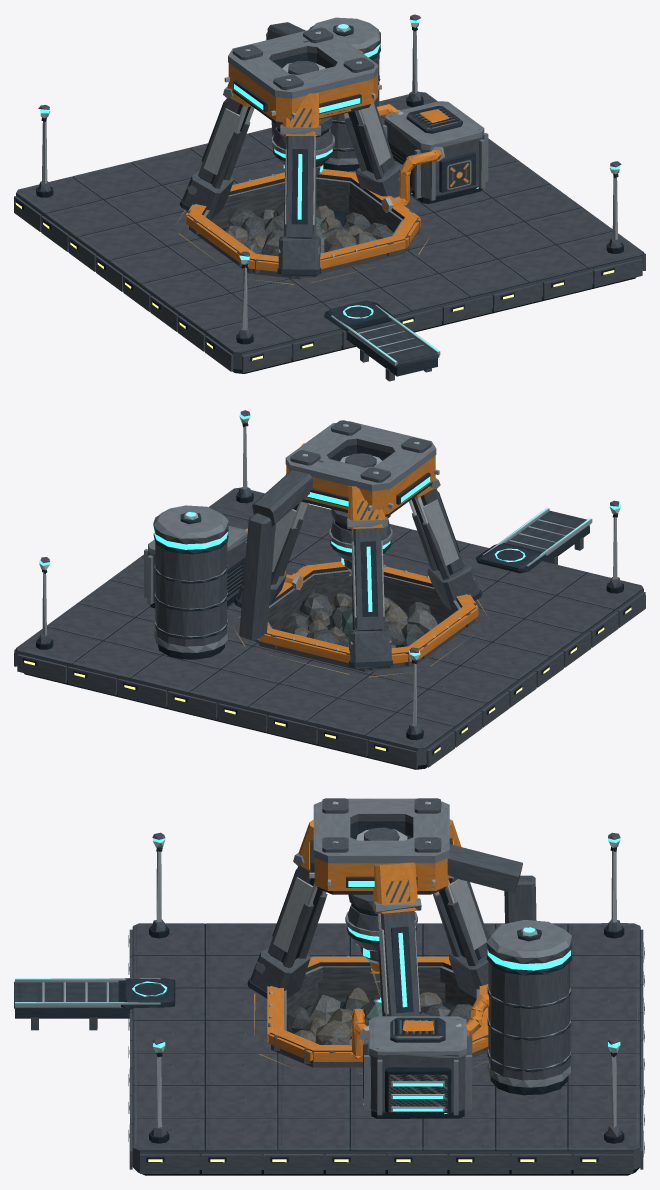
Rendered from EX02_ExtractorProcesador_Distancia.fbx.
3 views of the same model, one above another, from view 1: azimuth 30°, elevation 25°; view 2: azimuth 150°, elevation 25°; view 3: azimuth 270°, elevation 25° (orthographic). The views are drawn at different scales.
Parts seen in each view (by area): view 1: EstructuraDistante_2, BrocaDistante_2; view 2: EstructuraDistante_2, BrocaDistante_2; view 3: EstructuraDistante_2, BrocaDistante_2.
Part boxes in pixels (bbox=[...]): EstructuraDistante_2: bbox=[14, 14, 645, 381]; BrocaDistante_2: bbox=[271, 127, 334, 176]; EstructuraDistante_2: bbox=[14, 410, 645, 769]; BrocaDistante_2: bbox=[329, 519, 392, 579]; EstructuraDistante_2: bbox=[14, 798, 645, 1175]; BrocaDistante_2: bbox=[345, 903, 417, 1001].
Bounding box in the file's own units: 7.7 × 3.5 × 8.86.
